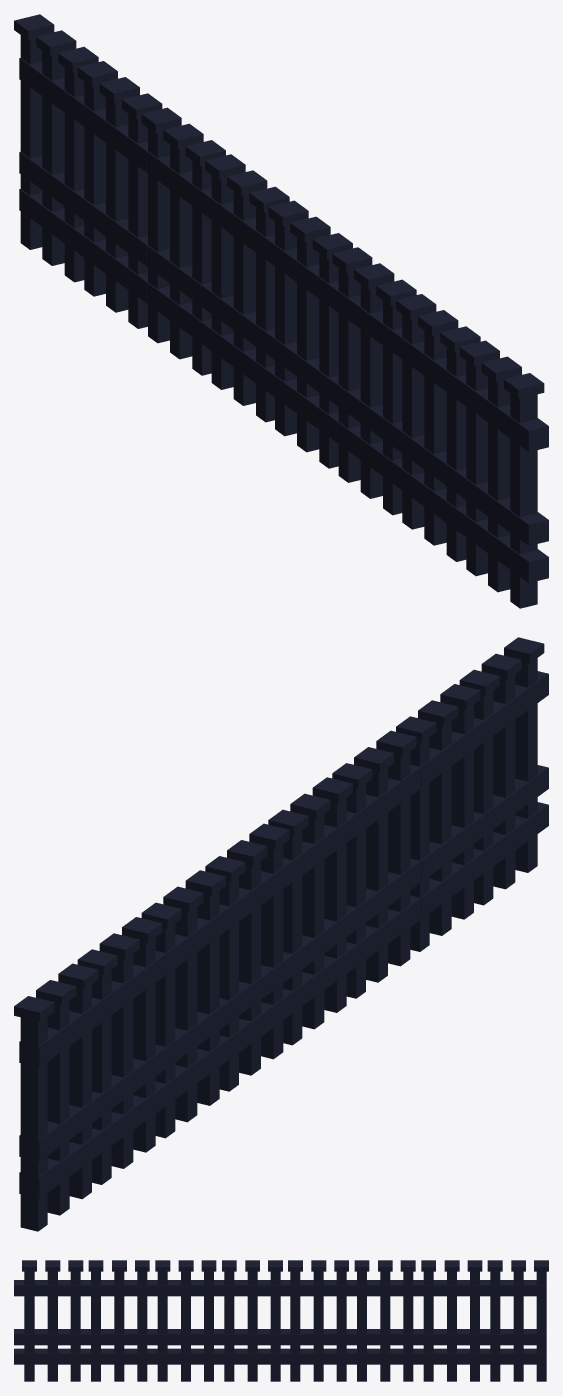
File: Prop_GraveFence.fbx
3 views of the same model, one above another, from view 1: azimuth 30°, elevation 25°; view 2: azimuth 150°, elevation 25°; view 3: azimuth 270°, elevation 25° (orthographic). The views are drawn at different scales.
Parts seen in each view (by area): view 1: Cube, Cube.001; view 2: Cube, Cube.001; view 3: Cube, Cube.001.
Boxes of the visible parts, bbox=[...] form: Cube: bbox=[14, 14, 544, 608]; Cube.001: bbox=[19, 58, 548, 582]; Cube: bbox=[14, 637, 544, 1231]; Cube.001: bbox=[19, 671, 548, 1198]; Cube: bbox=[22, 1260, 548, 1381]; Cube.001: bbox=[14, 1280, 546, 1364].
Size of the model in its own units: 45.95 by 374 by 1563.
